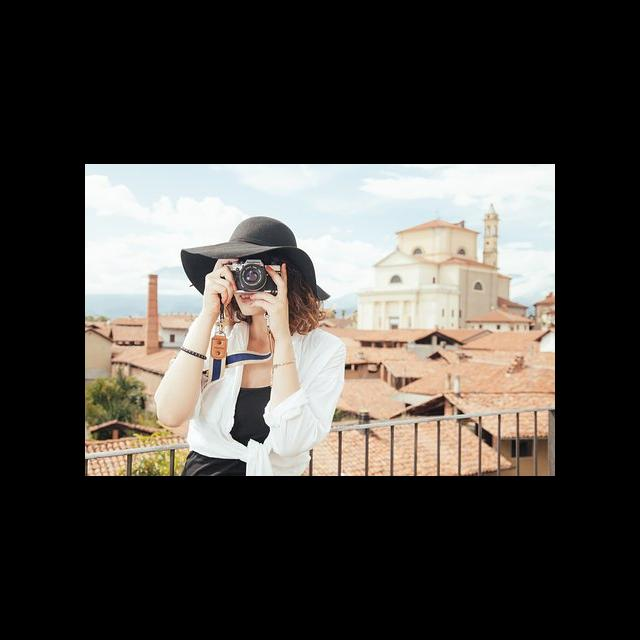female: (156, 230, 391, 347)
